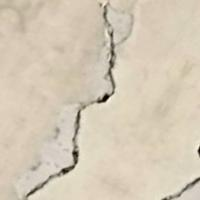crack: (23, 0, 133, 199)
